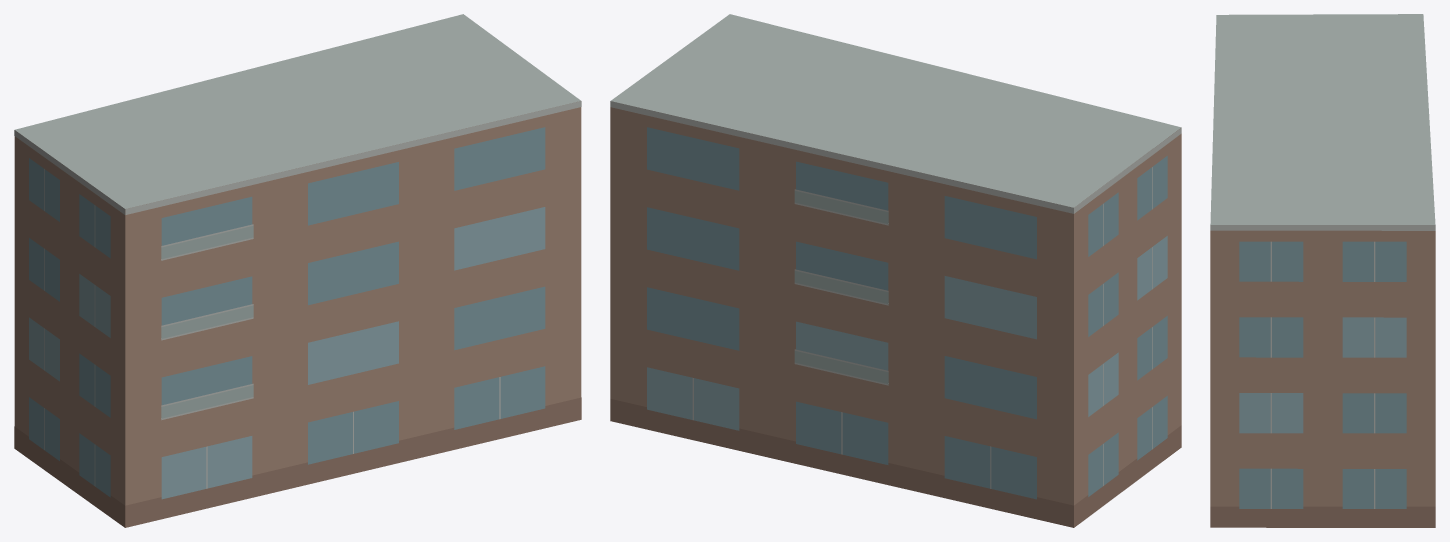
File: survey-upis-32675464.glb
3 renders of one model, left to right at view 1: azimuth 30°, elevation 25°; view 2: azimuth 150°, elevation 25°; view 3: azimuth 270°, elevation 25°, orthographic. The views are drawn at different scales.
Parts seen in each view (by area): view 1: survey-upis-32675464.tmp; view 2: survey-upis-32675464.tmp; view 3: survey-upis-32675464.tmp.
Part boxes in pixels (bbox=[...]): survey-upis-32675464.tmp: bbox=[14, 14, 581, 527]; survey-upis-32675464.tmp: bbox=[610, 14, 1181, 527]; survey-upis-32675464.tmp: bbox=[1210, 14, 1435, 527].
Bounding box in the file's own units: 18.99 × 12.7 × 8.57.
